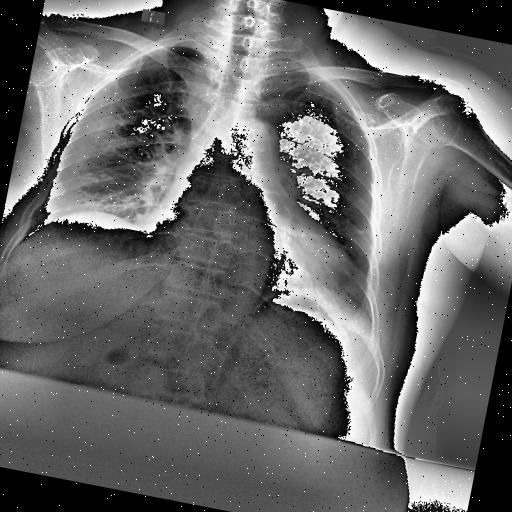3- Cardiomegaly: (134, 183, 356, 295), (135, 198, 361, 300), (140, 192, 354, 290)
